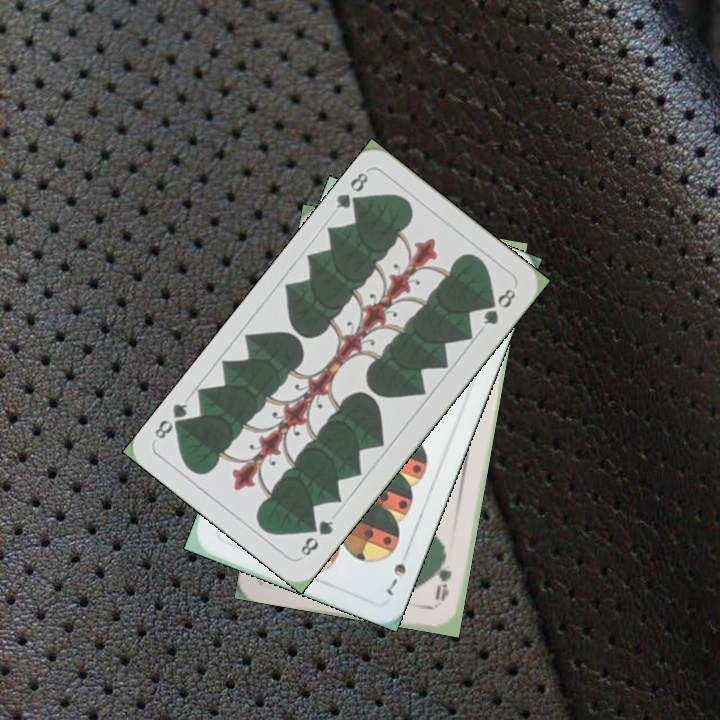G8: (331, 168, 371, 214), (296, 516, 336, 559)
GO: (431, 548, 455, 604)
S7: (382, 559, 409, 599)
